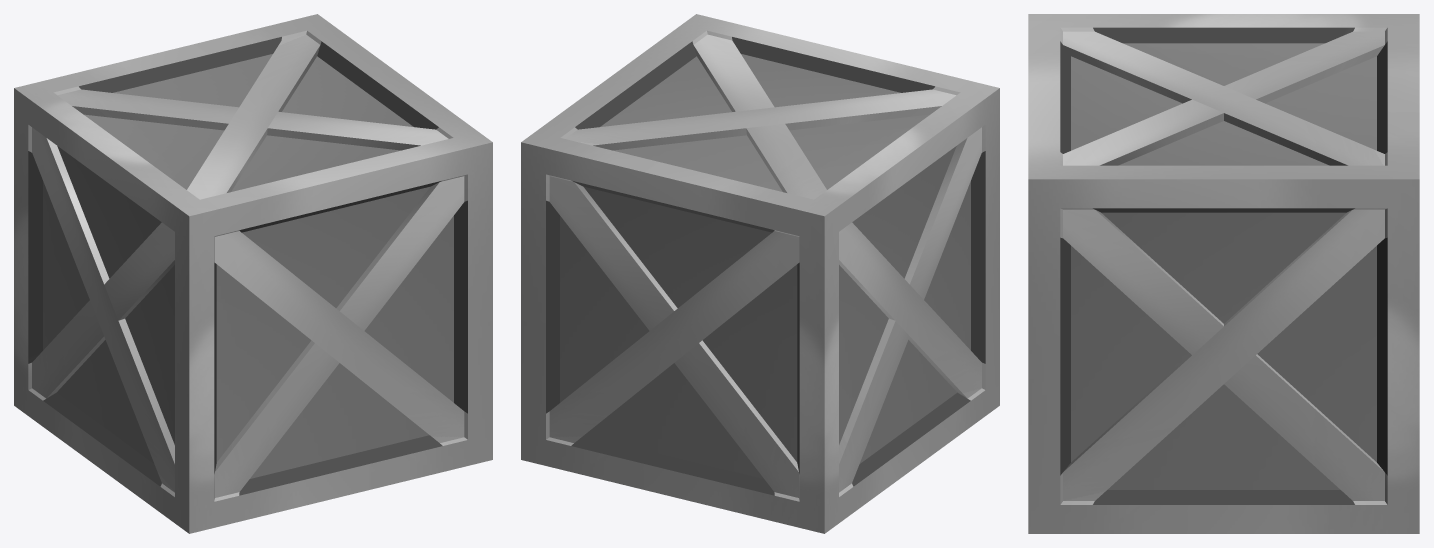
File: Metal Box.fbx
3 views of the same model, side by side, from view 1: azimuth 30°, elevation 25°; view 2: azimuth 150°, elevation 25°; view 3: azimuth 270°, elevation 25° (orthographic). The views are drawn at different scales.
Parts seen in each view (by area): view 1: Cube.003; view 2: Cube.003; view 3: Cube.003.
Boxes of the visible parts, <box> form: Cube.003: <box>14,14,492,533</box>; Cube.003: <box>521,14,999,533</box>; Cube.003: <box>1028,14,1419,533</box>.
Bounding box in the file's own units: 2 × 2 × 2.
1 material, 1 textured.
